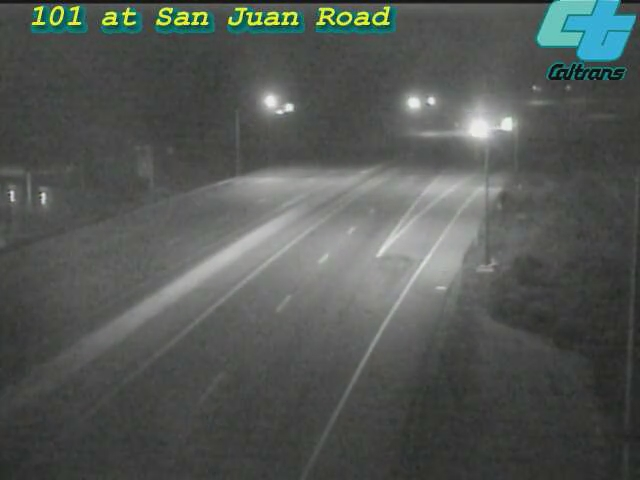vehicle: (453, 104, 503, 154), (480, 100, 530, 150)
